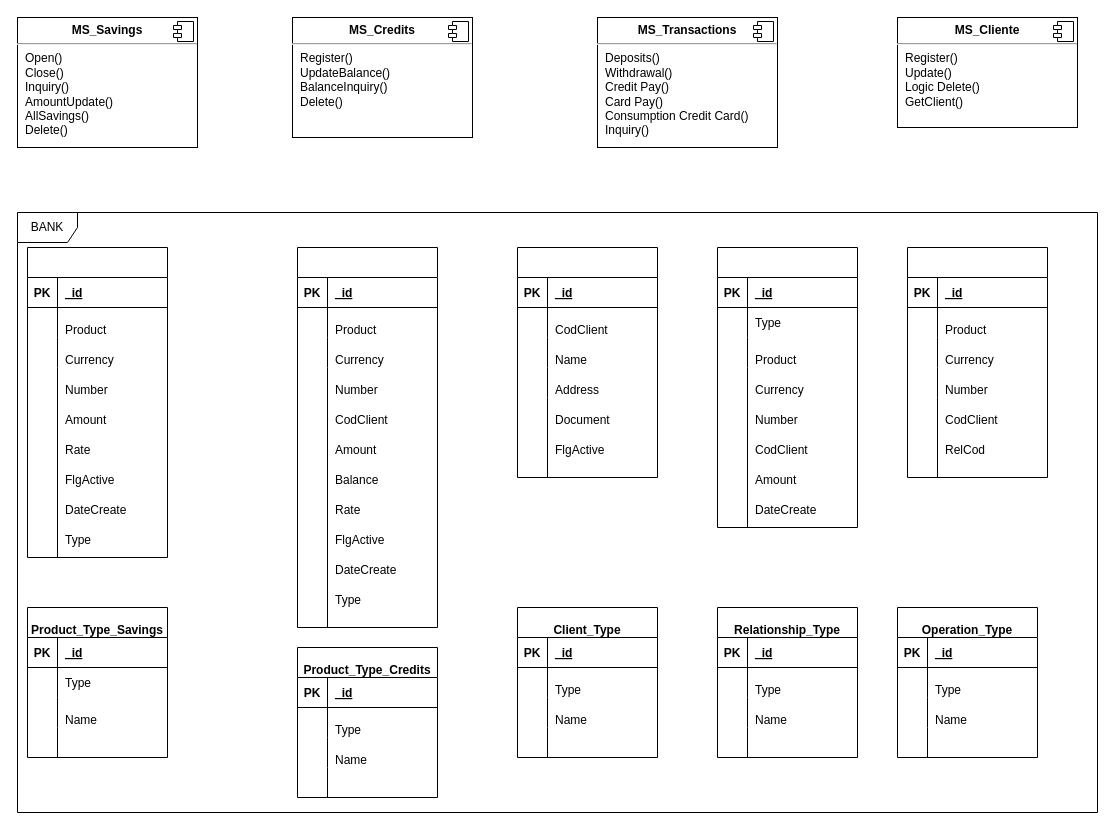
Image size: 1115x830. Some labels were removed from this diagram. The shapes that lost their labels are listed below. From the top down, each one's box as (x1, y1, x2, y2) in pixels, then its label:
(516, 246, 658, 478): Clients
(906, 246, 1048, 478): Accounts_Relationship
(26, 246, 168, 558): Savings
(716, 246, 858, 528): Transaction
(296, 246, 438, 628): Credits
